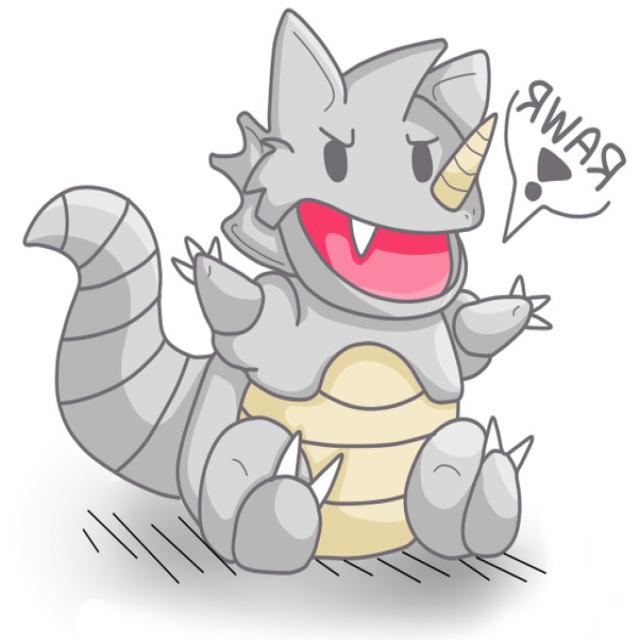Rhydon: (142, 37, 502, 571)
